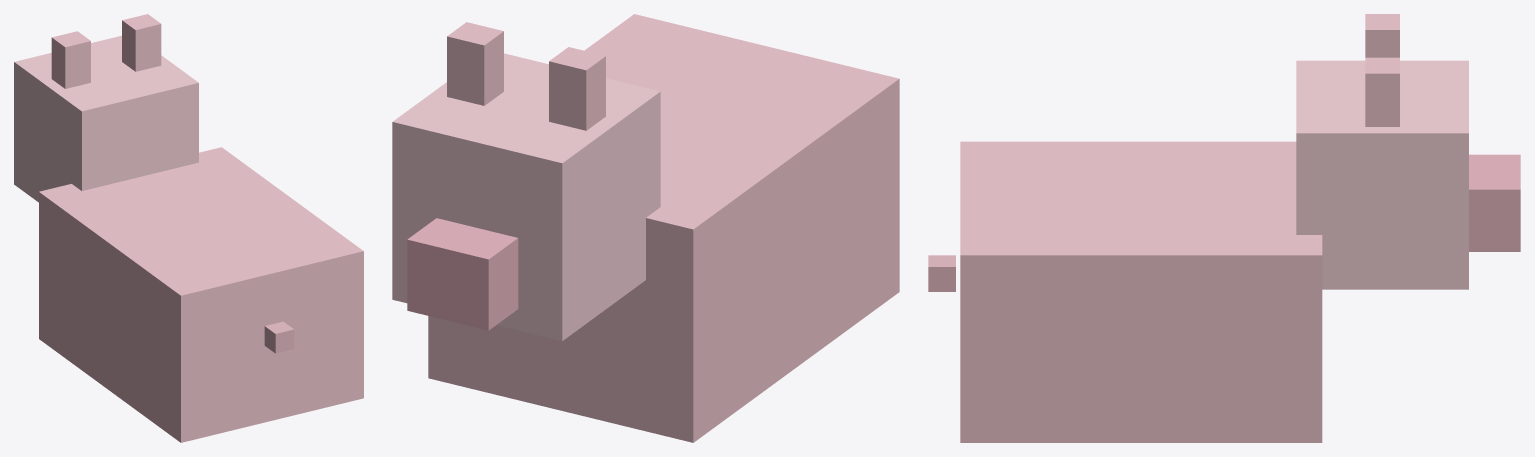
File: pig.glb
3 renders of one model, left to right at view 1: azimuth 30°, elevation 25°; view 2: azimuth 150°, elevation 25°; view 3: azimuth 270°, elevation 25°, orthographic. The views are drawn at different scales.
Visible parts, largest first — view 1: body, headmesh, ear_r, ear_l, tail; view 2: body, headmesh, snout, ear_l, ear_r; view 3: body, headmesh, snout, ear_r, ear_l, tail.
Boxes of the visible parts, x1,y1,x2,y2 form: body: (39,147,363,442); headmesh: (14,35,198,202); ear_r: (122,14,161,71); ear_l: (51,31,90,88); tail: (264,321,294,353); body: (428,14,899,442); headmesh: (392,53,660,341); snout: (407,218,518,330); ear_l: (549,47,605,130); ear_r: (447,22,503,105); body: (960,141,1322,442); headmesh: (1296,60,1468,289); snout: (1469,154,1520,251); ear_r: (1365,57,1399,126); ear_l: (1365,14,1399,57); tail: (928,255,955,291).
Bounding box in the file's own units: 0.78 × 1.1 × 1.72.
